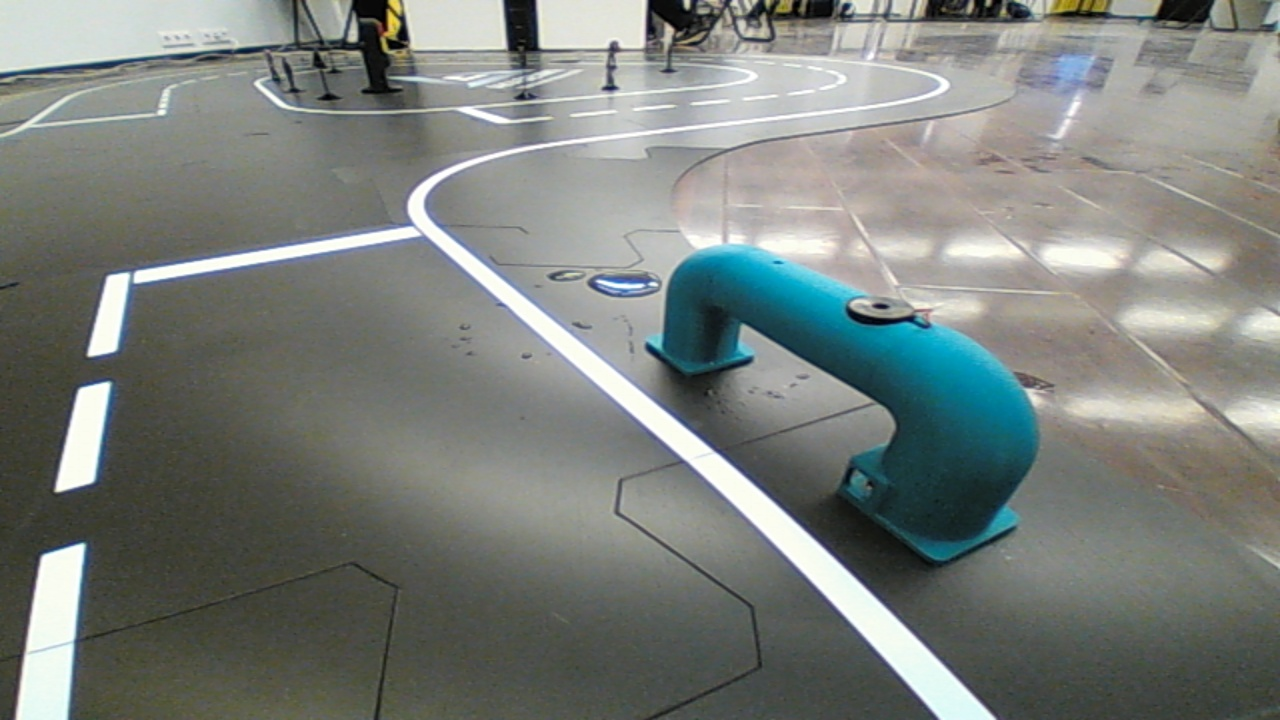Pedestrian crossing: (642, 233, 1041, 561)
